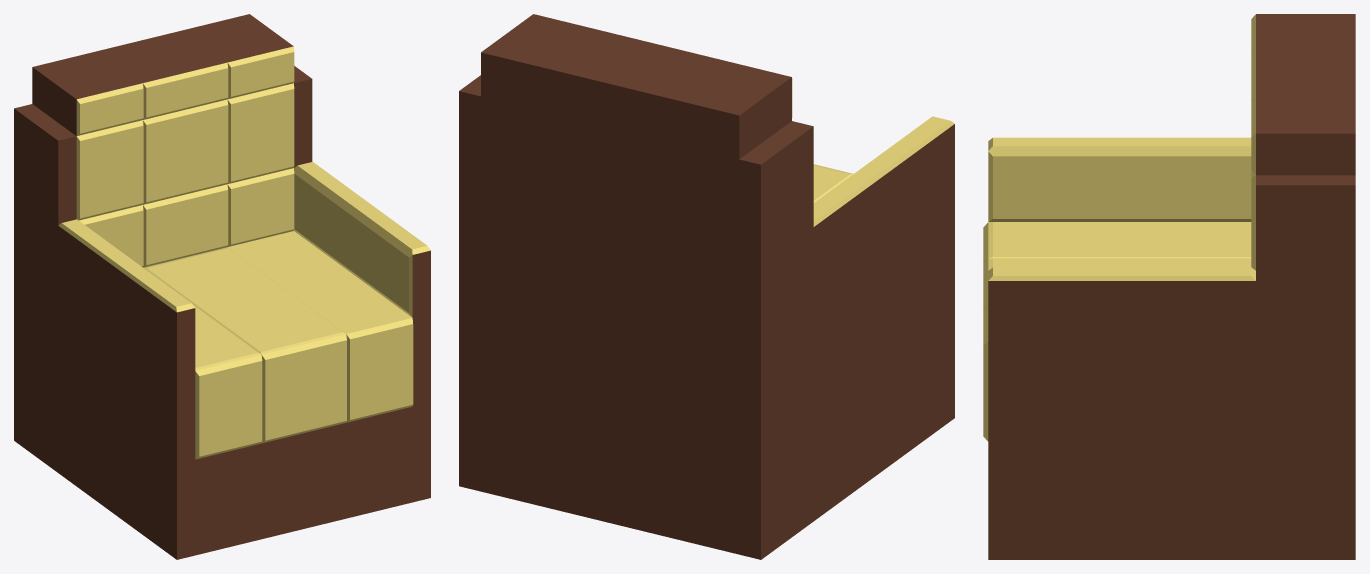
File: salon_sillon.fbx
3 views of the same model, side by side, from view 1: azimuth 30°, elevation 25°; view 2: azimuth 150°, elevation 25°; view 3: azimuth 270°, elevation 25° (orthographic). The views are drawn at different scales.
Visible parts, largest first — view 1: sillon; view 2: sillon; view 3: sillon.
Boxes of the visible parts, x1=… form: sillon: x1=14, y1=14, x2=430, y2=559; sillon: x1=459, y1=14, x2=954, y2=559; sillon: x1=983, y1=14, x2=1355, y2=559.
Size of the model in its own units: 72 by 100 by 81.1.
